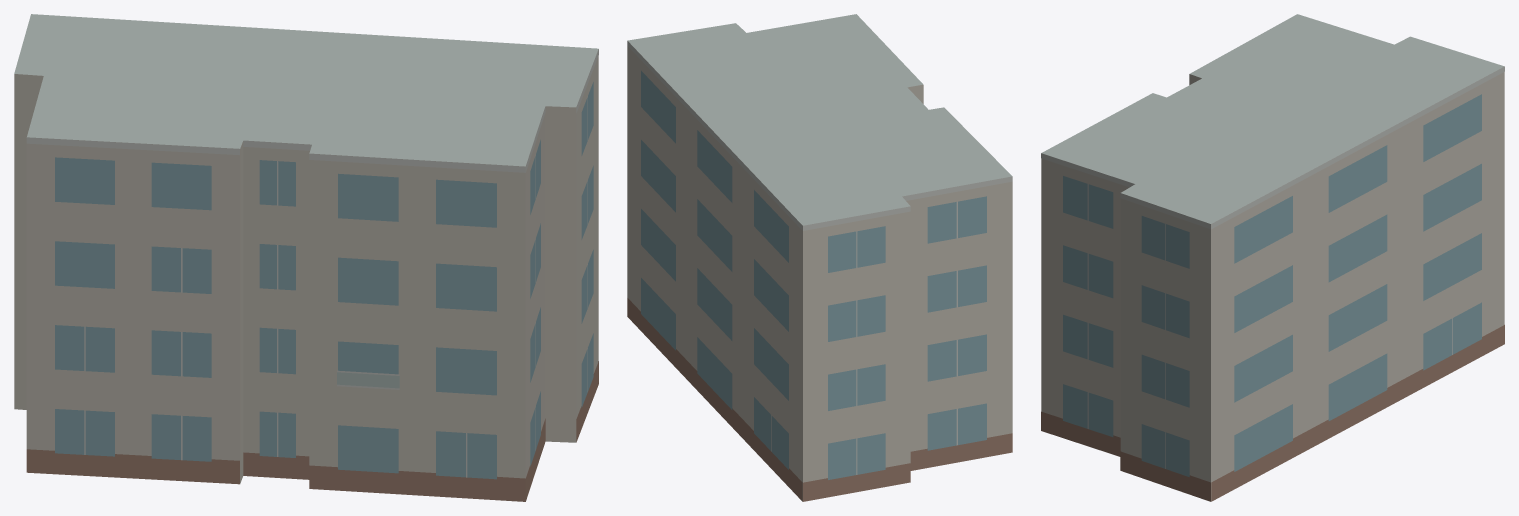
Rendered from survey-upis-32578738.glb.
3 views of the same model, side by side, from view 1: azimuth 30°, elevation 25°; view 2: azimuth 150°, elevation 25°; view 3: azimuth 270°, elevation 25° (orthographic). The views are drawn at different scales.
Parts seen in each view (by area): view 1: survey-upis-32578738.tmp; view 2: survey-upis-32578738.tmp; view 3: survey-upis-32578738.tmp.
Part boxes in pixels (bbox=[...]): survey-upis-32578738.tmp: bbox=[14, 14, 598, 501]; survey-upis-32578738.tmp: bbox=[627, 14, 1012, 501]; survey-upis-32578738.tmp: bbox=[1041, 14, 1504, 501].
Bounding box in the file's own units: 20.86 × 12.85 × 19.45.
